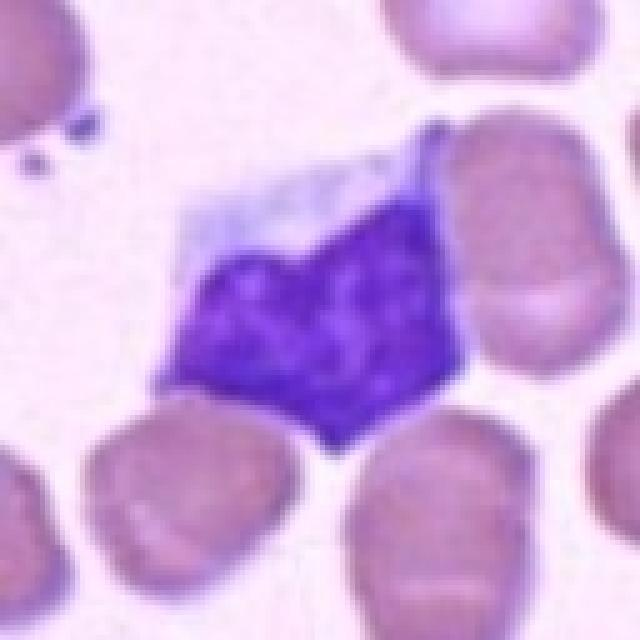lympho: (156, 112, 479, 454)
